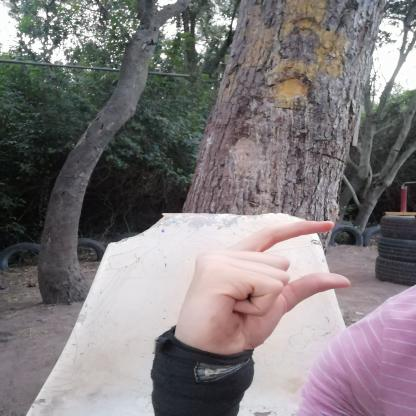DELL: (158, 210, 366, 366)
